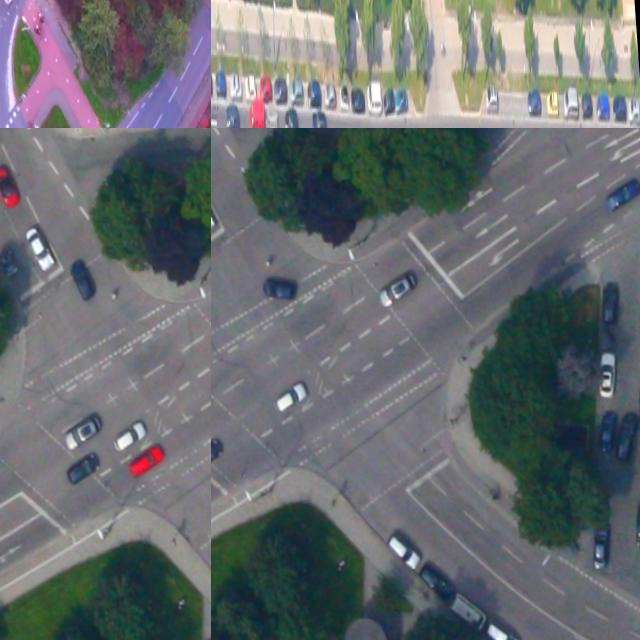UAI: (416, 558, 456, 605), (22, 223, 56, 273), (60, 413, 103, 452), (449, 590, 488, 633), (375, 270, 417, 309), (610, 410, 640, 463), (125, 441, 166, 479), (387, 531, 422, 573), (603, 174, 640, 212), (110, 419, 147, 454), (64, 452, 101, 486), (67, 259, 95, 303), (272, 380, 308, 414), (595, 350, 618, 400), (589, 521, 611, 570), (261, 273, 297, 302), (595, 412, 619, 455), (599, 279, 621, 324), (484, 617, 521, 640), (0, 164, 18, 209), (0, 247, 19, 278), (562, 84, 578, 119), (366, 79, 382, 114), (306, 77, 321, 108), (248, 101, 265, 128), (211, 437, 224, 471), (626, 94, 640, 125), (595, 90, 609, 121), (484, 83, 498, 114), (258, 72, 272, 103), (612, 93, 626, 122), (243, 71, 256, 102), (289, 76, 303, 104), (224, 102, 239, 128), (545, 87, 558, 116), (214, 68, 226, 99), (527, 89, 541, 115), (394, 88, 408, 114), (351, 87, 365, 113), (274, 76, 287, 104), (580, 90, 592, 119), (310, 108, 327, 128), (229, 73, 242, 99), (383, 86, 395, 114), (282, 108, 298, 128), (324, 83, 336, 108), (338, 83, 348, 112), (266, 108, 278, 128)
